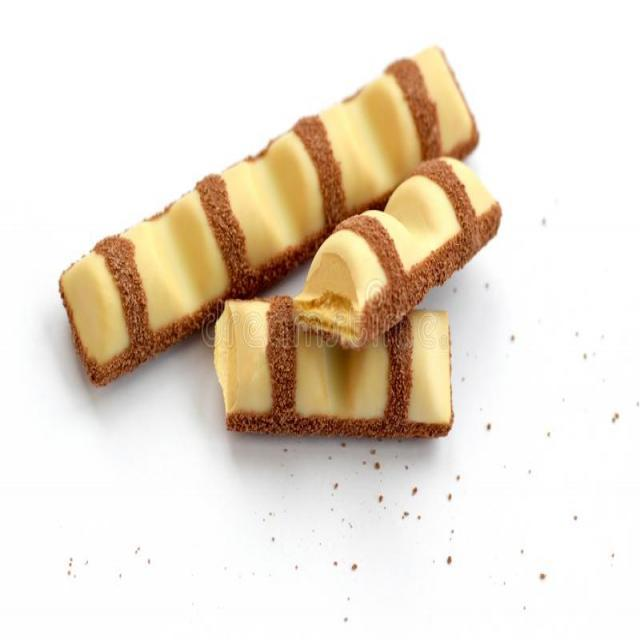Chocolate bar packaged: (53, 45, 485, 392), (298, 154, 503, 344), (210, 297, 462, 443)
